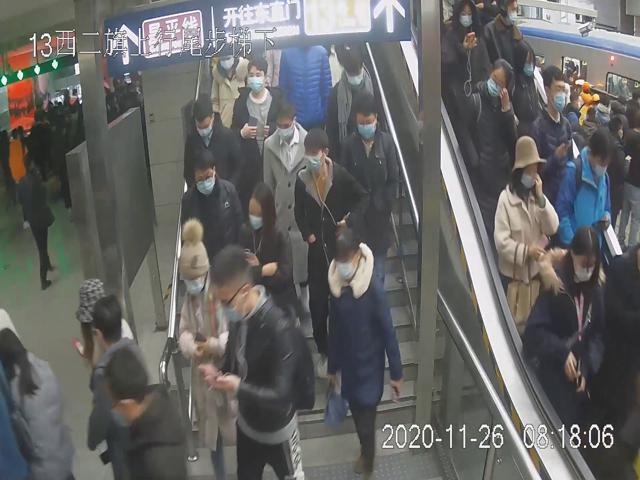person: (198, 244, 316, 480), (322, 224, 403, 480), (172, 212, 248, 471), (292, 127, 370, 377), (520, 223, 606, 412), (490, 132, 560, 338), (337, 91, 401, 291), (261, 98, 319, 316), (237, 178, 295, 316), (461, 55, 514, 195), (177, 148, 244, 258), (179, 94, 243, 194), (323, 48, 384, 138), (229, 57, 278, 156)
